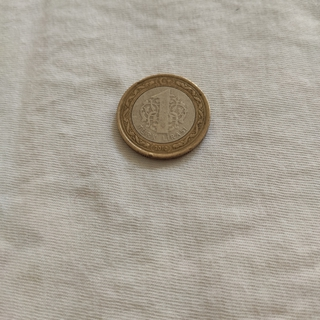1TL: (114, 71, 212, 161)
